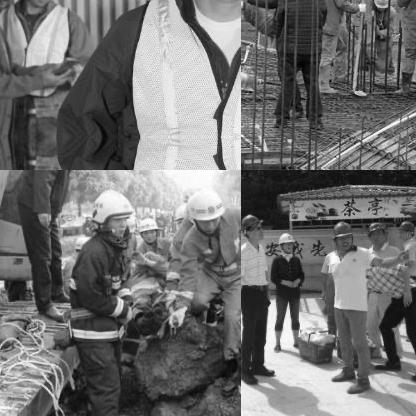Helmet: (88, 186, 136, 238), (183, 184, 225, 232), (329, 218, 355, 252), (134, 213, 160, 240), (365, 220, 389, 248), (241, 212, 264, 241), (395, 217, 415, 240), (278, 231, 294, 255), (370, 0, 390, 11)
